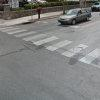Crosswalk: (6, 16, 95, 71)
